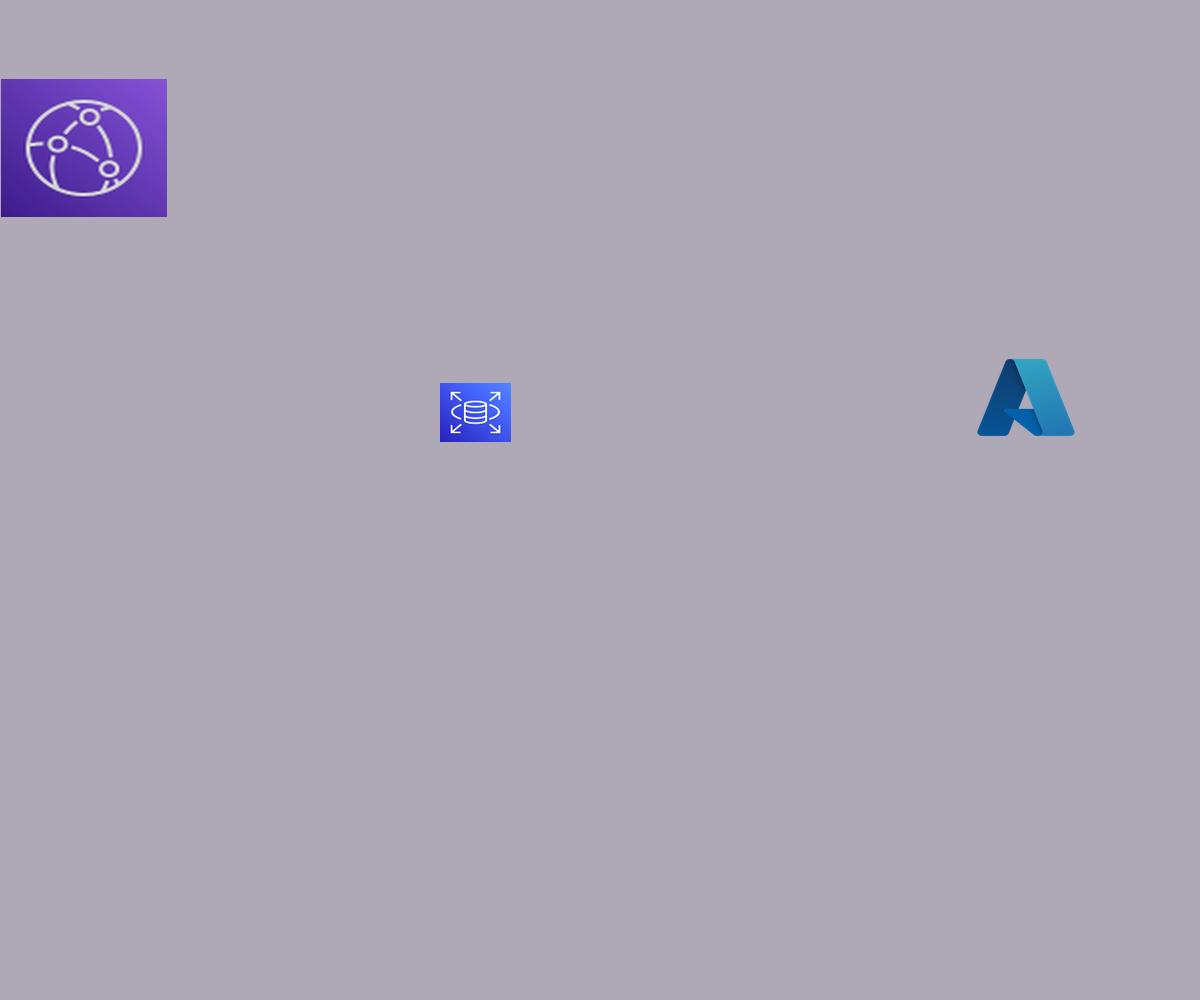AWS-CloudFront: (1, 79, 167, 217)
AWS-RDS: (440, 383, 511, 442)
Azure_services: (973, 353, 1079, 442)
